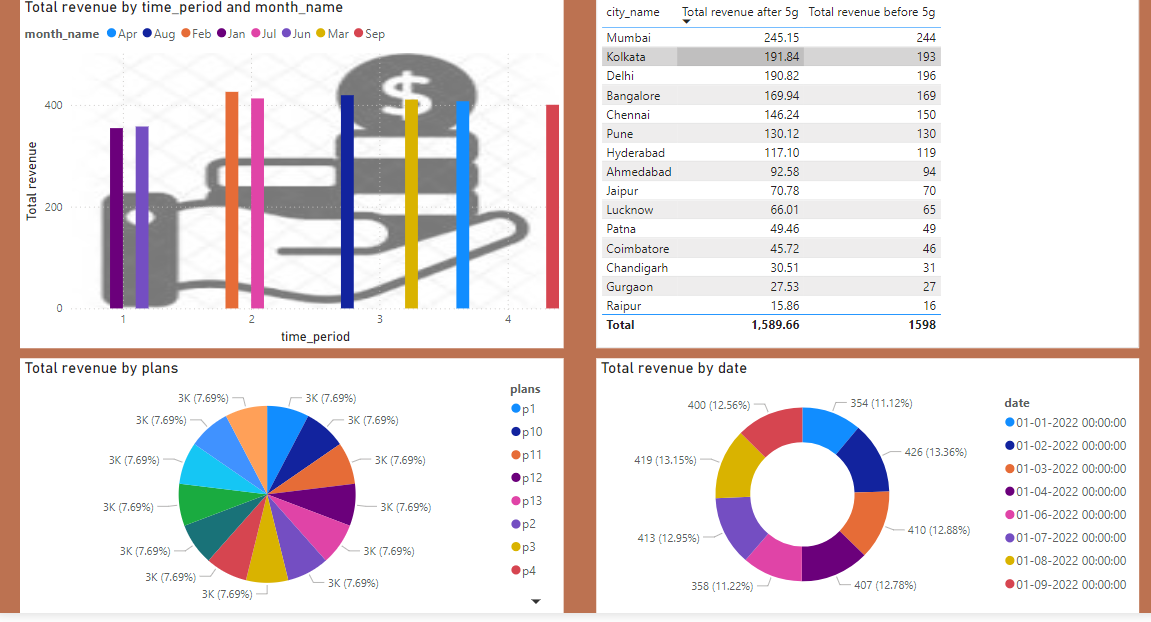

The page's visual inventory and layout, read from the dashboard file:
{"tool":"powerbi","page":{"name":"Revenue ","canvas":[1280,720],"ordinal":2},"visuals":[{"type":"lineClusteredColumnComboChart","fields":{"Category":["dim_date.time_period"],"Y":["KPI.Total revenue"],"Series":["dim_date.month_name"]},"box":[27.4,43.9,596.9,385.6],"z":0},{"type":"tableEx","fields":{"Values":["dim_cities.city_name","KPI.Total revenue after 5g","KPI.Total revenue before 5g"]},"box":[660,43.9,595.5,385.6],"z":1000},{"type":"pieChart","fields":{"Y":["KPI.Total revenue"],"Series":["fact_plan_revenue.plans"]},"box":[27,440,597,280],"z":2000},{"type":"donutChart","fields":{"Y":["KPI.Total revenue"],"Series":["fact_gds_metrics.date"]},"box":[660,440,596,280],"z":3000}]}

Visuals, with their boxes on the page's 1280x720 design canvas (x1, y1, x2, y2). These are canvas units, not pixel positions in the 1151x622 screenshot, which may show the page scaled, cropped or inside an application window:
lineClusteredColumnComboChart - dim_date.time_period x KPI.Total revenue: <region>27, 44, 624, 430</region>
tableEx - dim_cities.city_name x KPI.Total revenue after 5g: <region>660, 44, 1256, 430</region>
pieChart - KPI.Total revenue x fact_plan_revenue.plans: <region>27, 440, 624, 720</region>
donutChart - KPI.Total revenue x fact_gds_metrics.date: <region>660, 440, 1256, 720</region>
